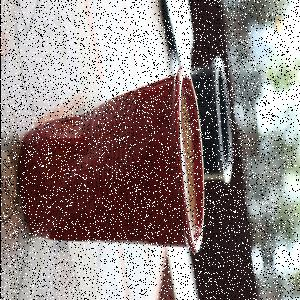Cup: (18, 65, 206, 261)
